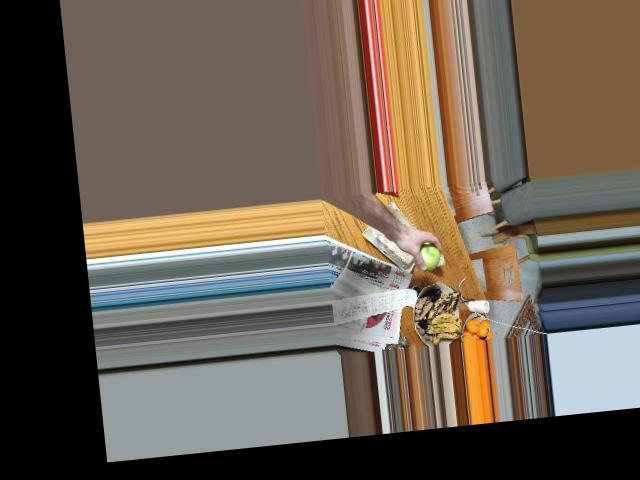apple: (403, 237, 440, 270)
